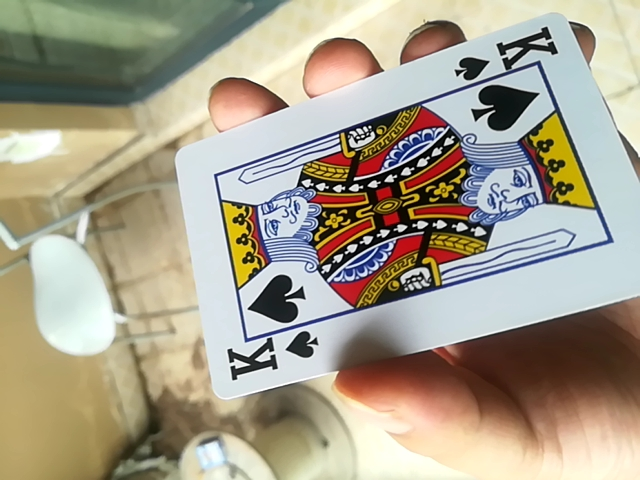ht k: (169, 23, 639, 412)
